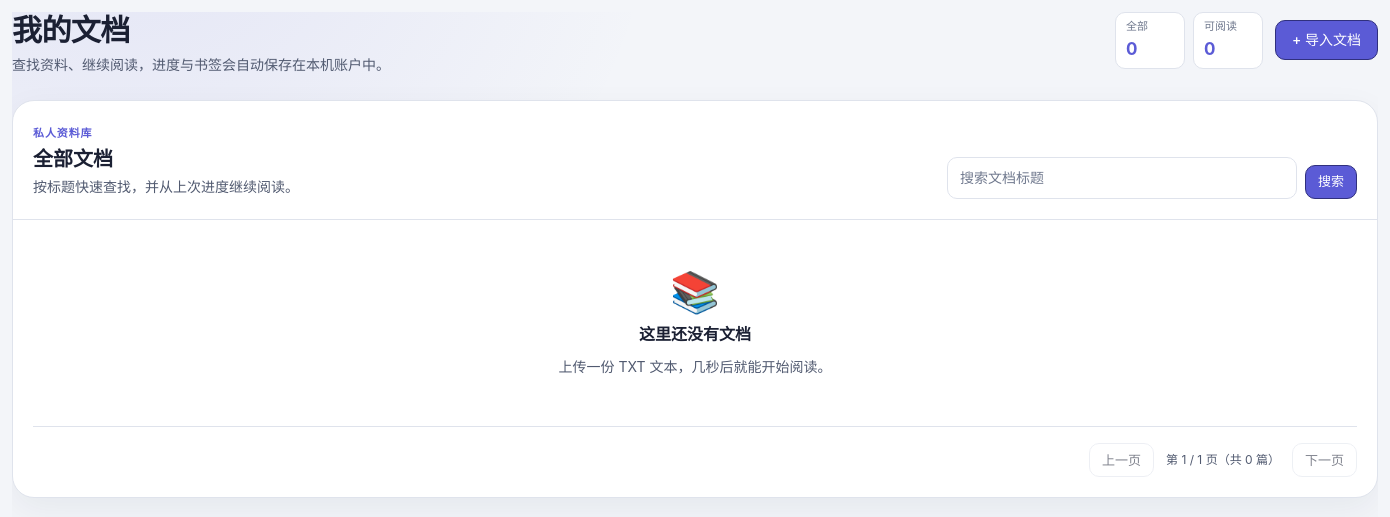
Test: LibraryPage › searches by title and resets to the first page
Expected: the heading "这里还没有文档" is shown, [639, 324, 751, 344]
In the search field named "搜索标题": (1122, 178) [947, 157, 1297, 199], type "架构"
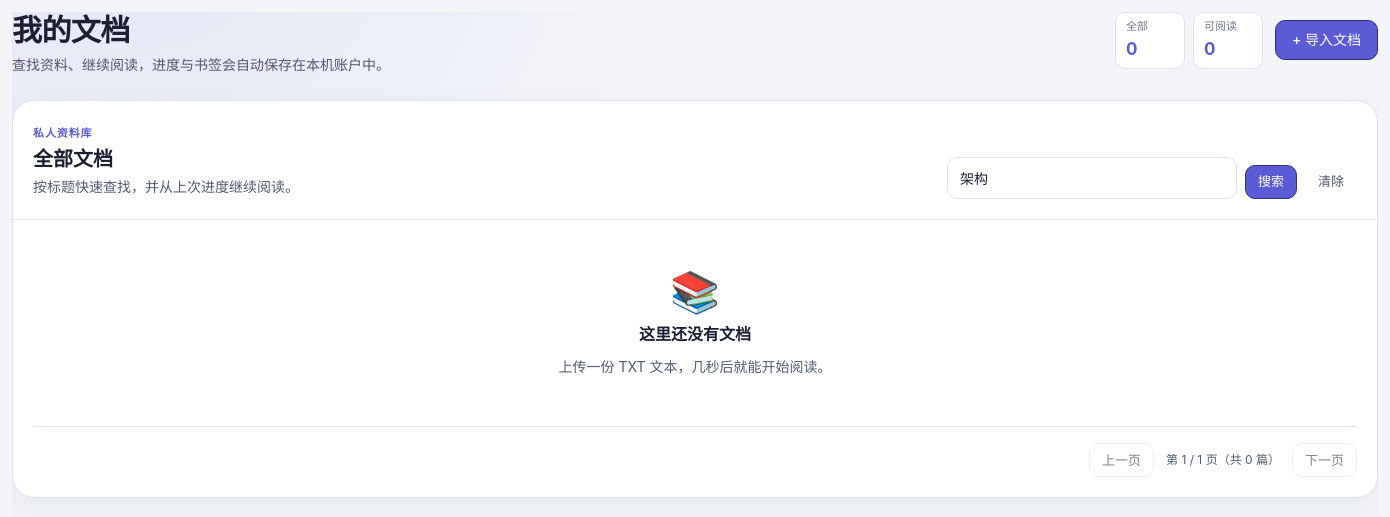
Click the button "搜索": (1271, 182) [1245, 165, 1297, 199]
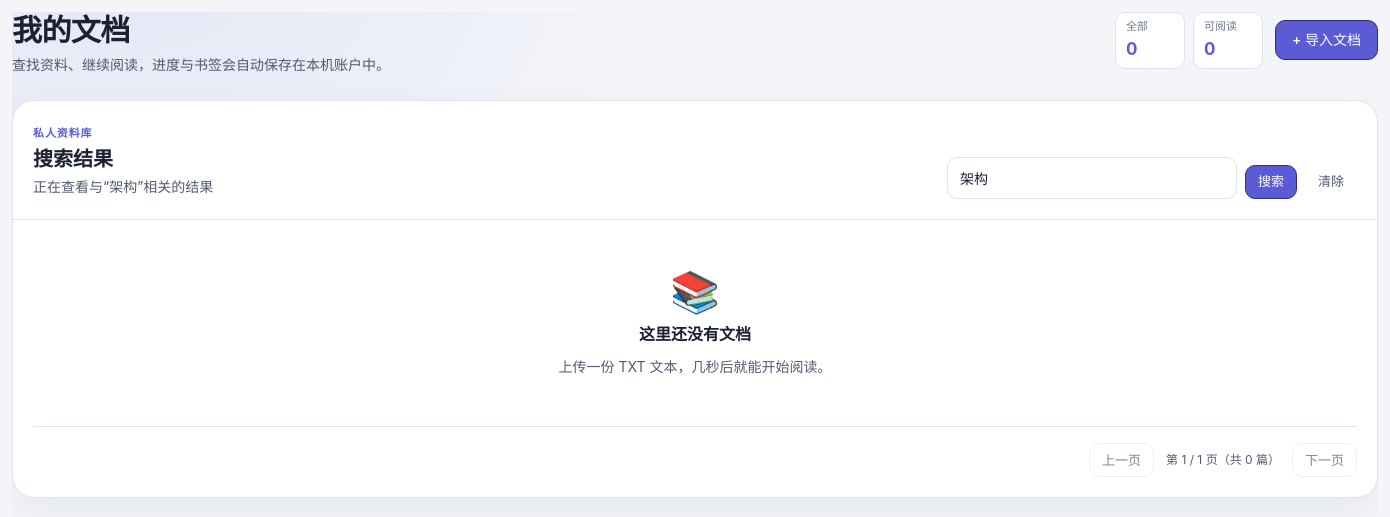
Now the text "正在查看与“架构”相关的结果" is shown, box [33, 176, 213, 199]
